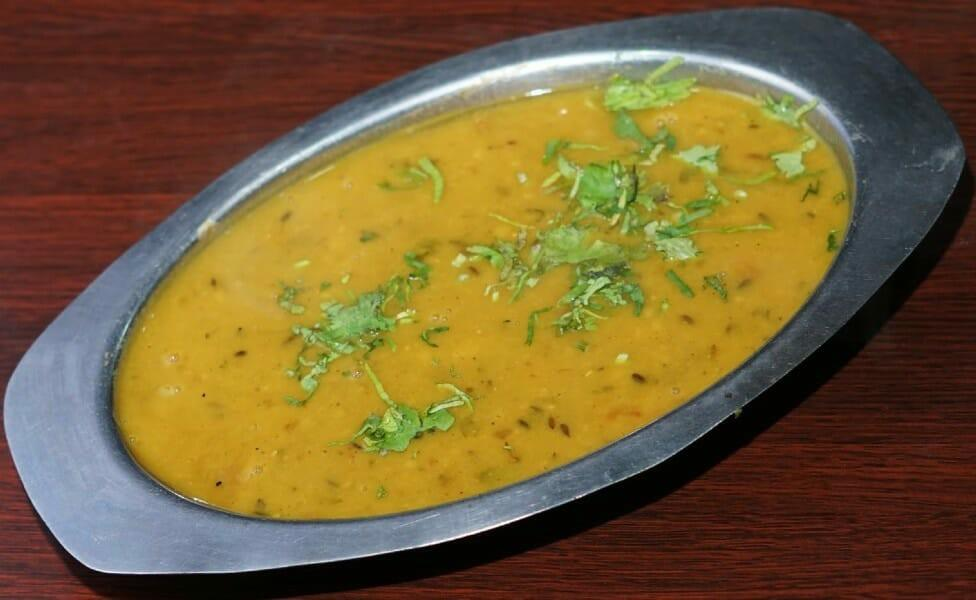Dal: (114, 84, 852, 521)
